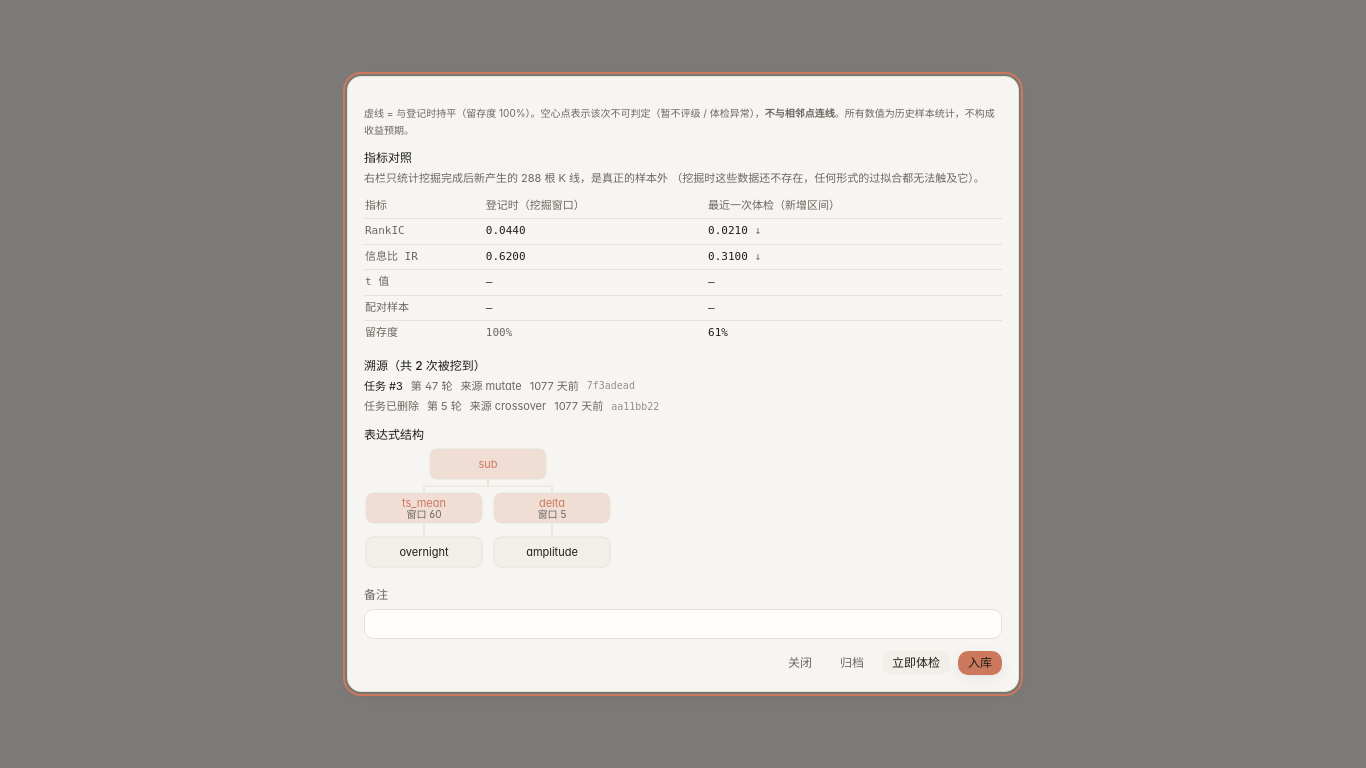
Scenario: DiscoveryAssetDetail › 立即体检 409 时如实提示，不把失败当成功
(page scrolled)
Step 1. Click the button "立即体检" → {"x": 916, "y": 663}, box [882, 651, 950, 675]
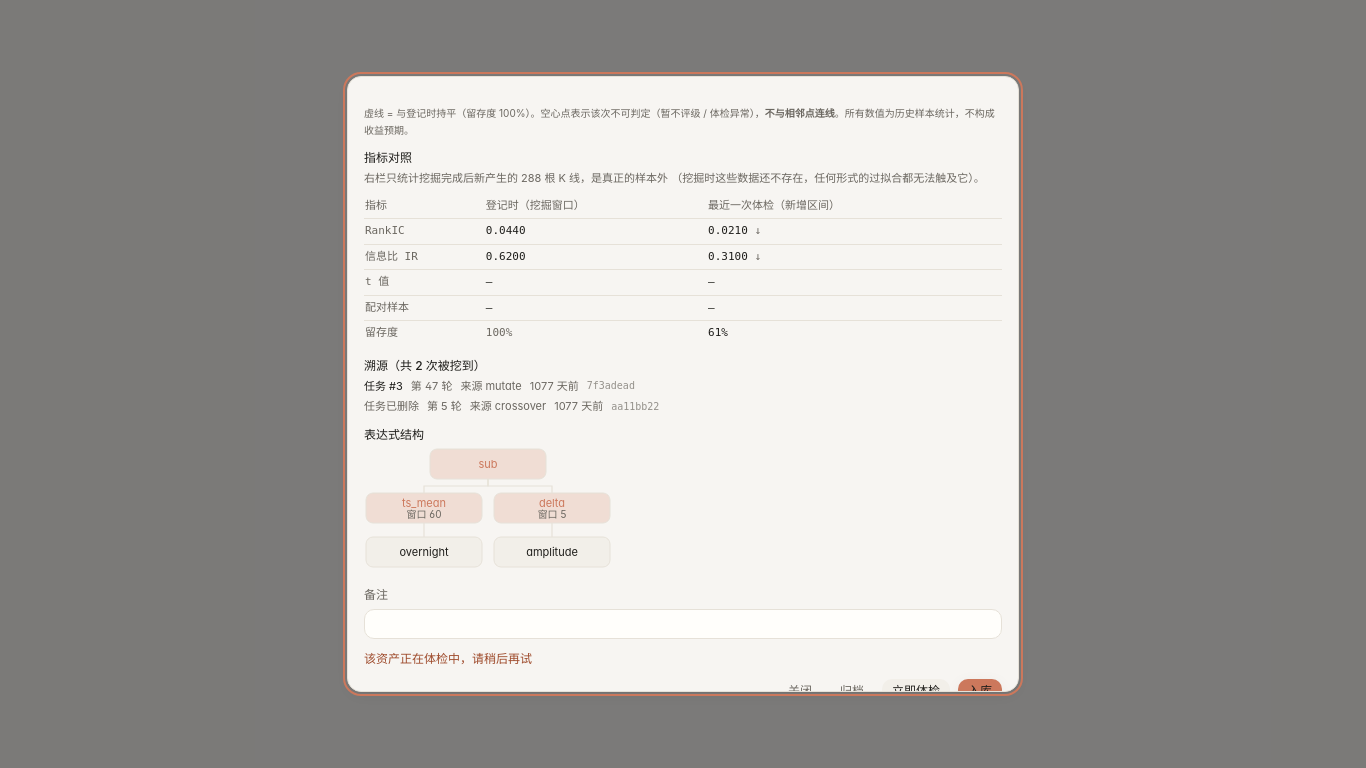
expect the text "该资产正在体检中，请稍后再试" is shown: met, box [364, 651, 532, 666]
